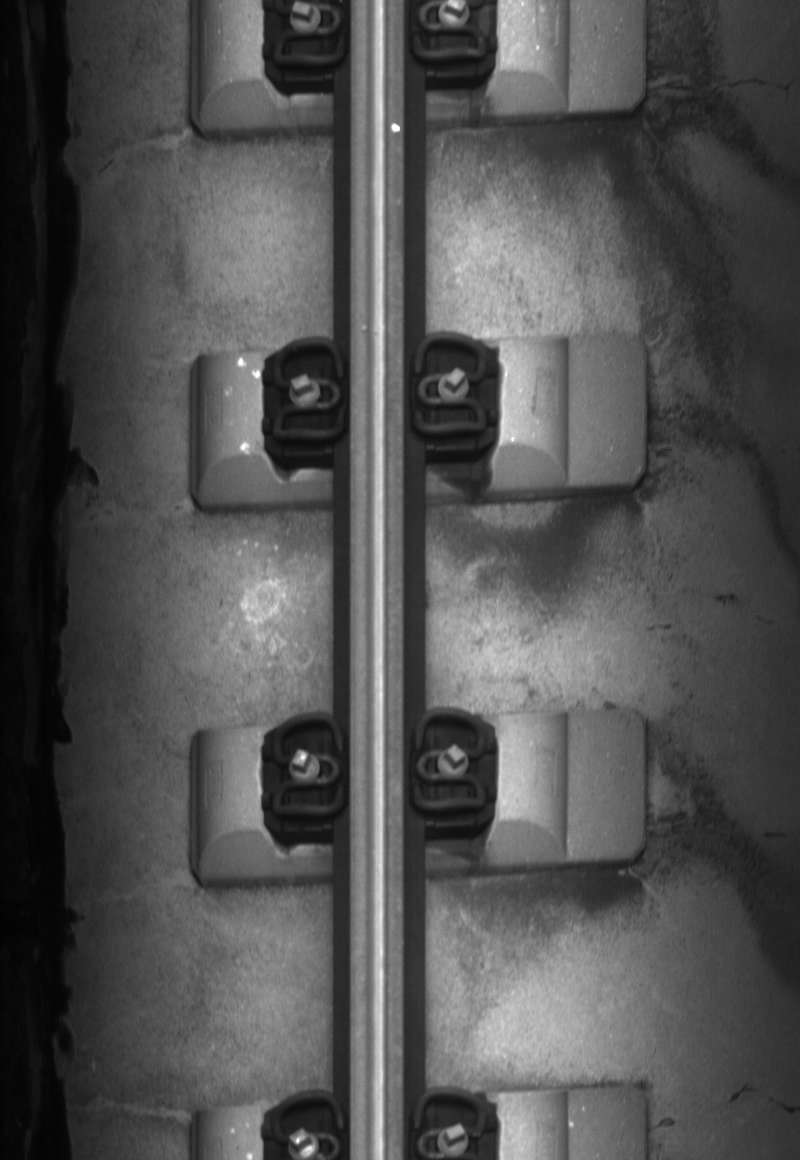l_faster: (260, 331, 353, 445), (260, 709, 351, 821)
r_faster: (409, 704, 491, 818), (409, 330, 492, 441)
